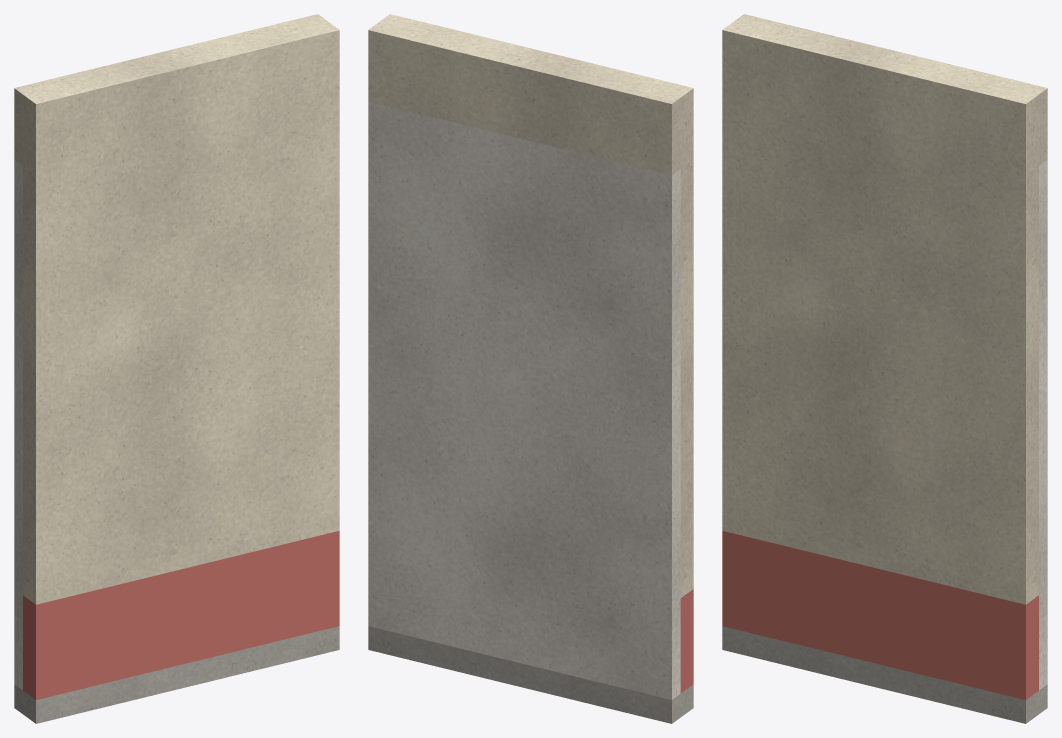
Rendered from w_plain.glb.
The picture shows the model from 3 angles, left to right: view 1: azimuth 30°, elevation 25°; view 2: azimuth 150°, elevation 25°; view 3: azimuth 330°, elevation 25°; orthographic projection.
Parts seen in each view (by area): view 1: w_plain_render, w_plain_tile_r, w_plain_concrete, w_plain_plaster; view 2: w_plain_plaster, w_plain_render, w_plain_concrete, w_plain_tile_r; view 3: w_plain_render, w_plain_tile_r, w_plain_concrete, w_plain_plaster.
Part boxes in pixels (left/top/right/bottom): w_plain_render: left=14, top=14, right=339, bottom=604; w_plain_tile_r: left=23, top=531, right=339, bottom=699; w_plain_concrete: left=14, top=626, right=339, bottom=723; w_plain_plaster: left=14, top=160, right=22, bottom=690; w_plain_plaster: left=368, top=101, right=680, bottom=699; w_plain_render: left=368, top=14, right=693, bottom=597; w_plain_concrete: left=368, top=626, right=693, bottom=723; w_plain_tile_r: left=680, top=589, right=693, bottom=693; w_plain_render: left=722, top=14, right=1047, bottom=604; w_plain_tile_r: left=722, top=531, right=1038, bottom=699; w_plain_concrete: left=722, top=626, right=1047, bottom=723; w_plain_plaster: left=1039, top=160, right=1047, bottom=690.
Size of the model in its own units: 2 by 3.9 by 0.25.
4 materials, 3 textured.
